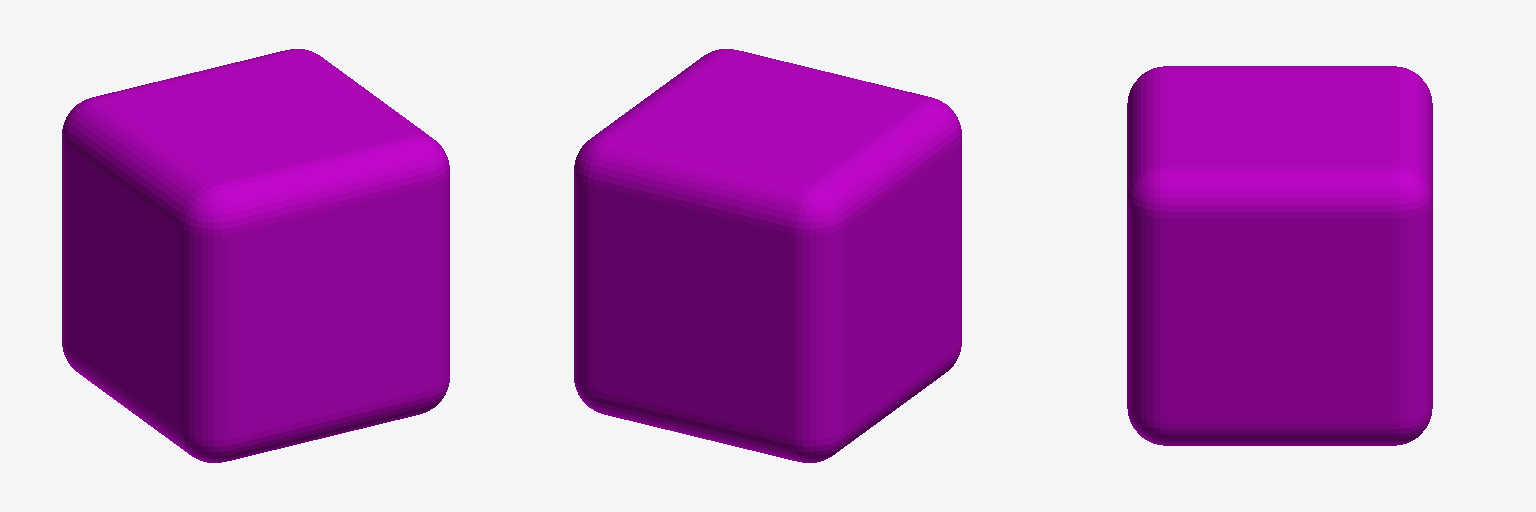
Rendered from powerup.obj.
3 renders of one model, left to right at view 1: azimuth 30°, elevation 25°; view 2: azimuth 150°, elevation 25°; view 3: azimuth 270°, elevation 25°, orthographic.
Visible parts, largest first — view 1: Cube; view 2: Cube; view 3: Cube.
Part boxes in pixels (left/top/right/bottom): Cube: left=62, top=49, right=449, bottom=462; Cube: left=574, top=49, right=961, bottom=462; Cube: left=1127, top=66, right=1432, bottom=445.
Bounding box in the file's own units: 2 × 2 × 2.